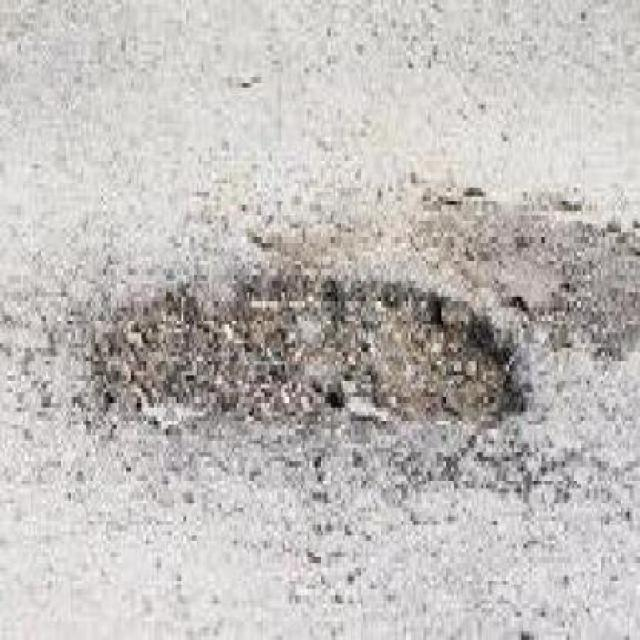Pothole: (86, 258, 531, 432)
